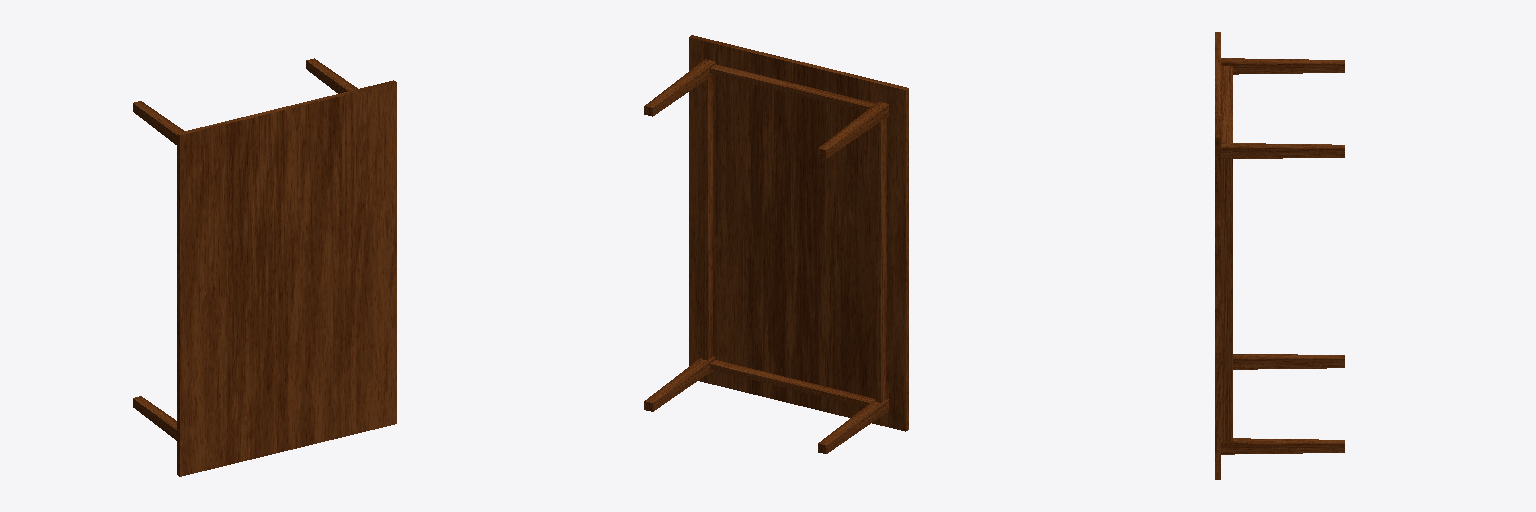
3 views of the same model, side by side, from view 1: azimuth 30°, elevation 25°; view 2: azimuth 150°, elevation 25°; view 3: azimuth 270°, elevation 25° (orthographic).
Parts seen in each view (by area): view 1: Cube.034_Material.001; view 2: Cube.034_Material.001; view 3: Cube.034_Material.001.
Part boxes in pixels (bbox=[...]): Cube.034_Material.001: bbox=[133, 58, 396, 476]; Cube.034_Material.001: bbox=[644, 35, 908, 453]; Cube.034_Material.001: bbox=[1215, 32, 1344, 479].
Bounding box in the file's own units: 4 × 6 × 2.07.
Materials: 1 (1 with a texture image).